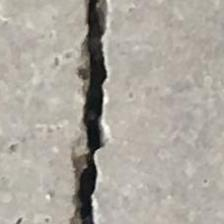Crack: (47, 0, 174, 224)
